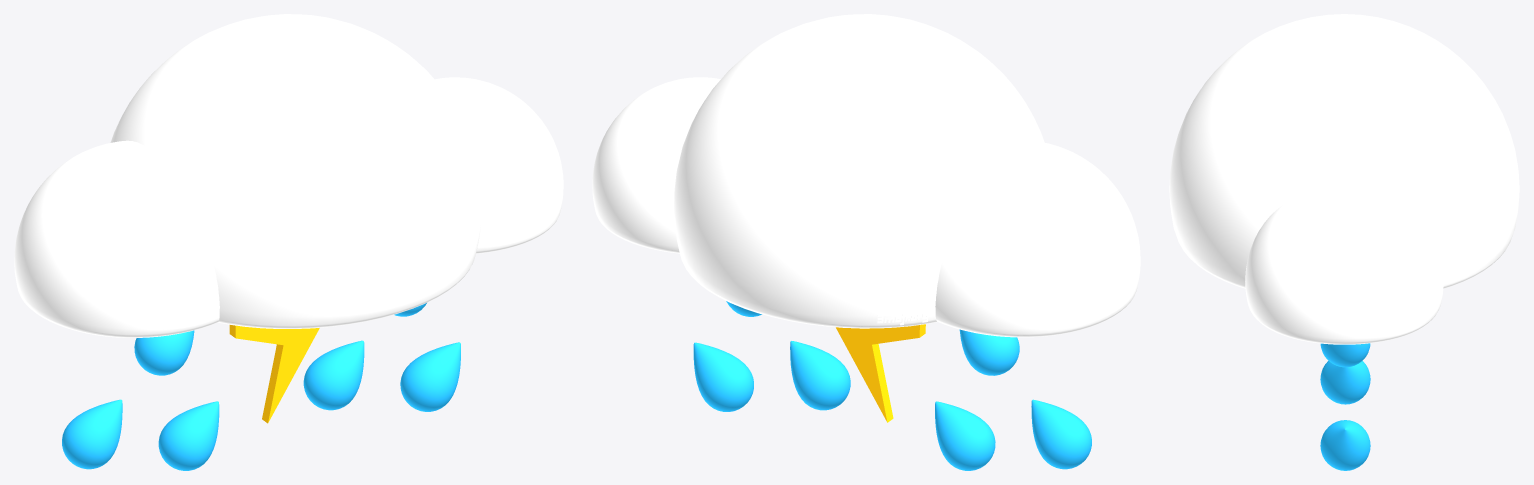
Rendered from cloud_with_lightning_and_rain.glb.
3 renders of one model, left to right at view 1: azimuth 30°, elevation 25°; view 2: azimuth 150°, elevation 25°; view 3: azimuth 270°, elevation 25°, orthographic. The views are drawn at different scales.
Parts seen in each view (by area): view 1: Cube.200; view 2: Cube.200; view 3: Cube.200.
Boxes of the visible parts, x1,y1,x2,y2 form: Cube.200: (14, 14, 563, 470); Cube.200: (592, 14, 1140, 470); Cube.200: (1169, 14, 1519, 470).
Size of the model in its own units: 2.15 by 1.63 by 1.37.
1 material, 1 textured.
